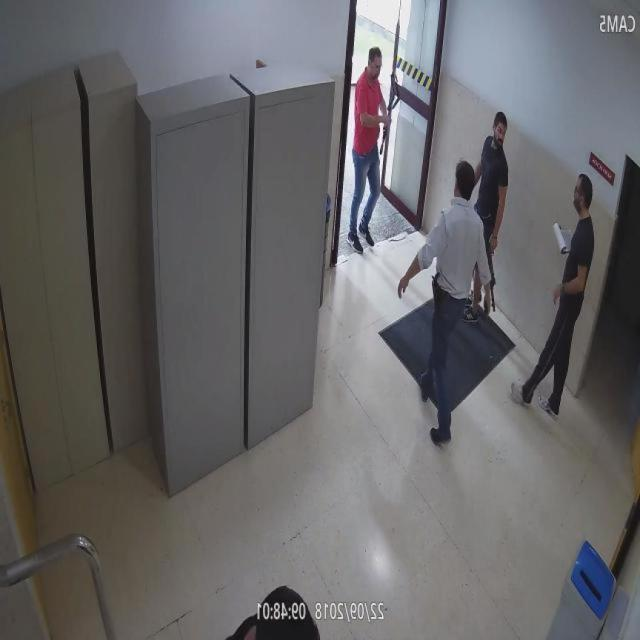pistol: (480, 287, 492, 315)
